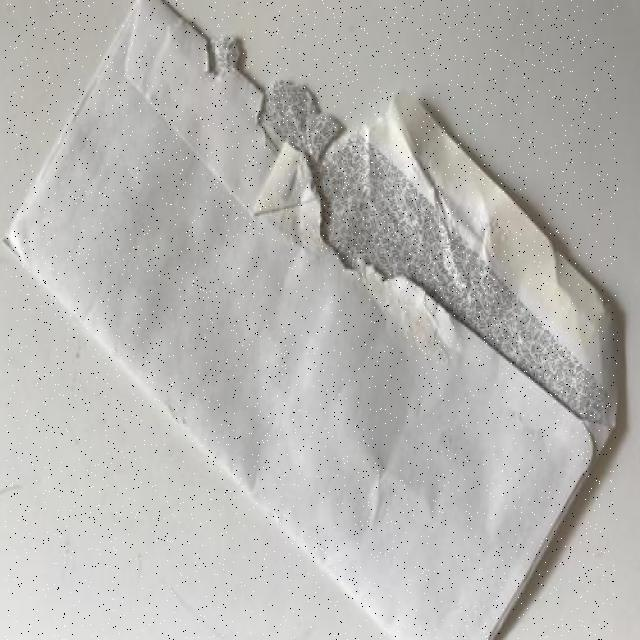paper: (5, 0, 618, 640)
